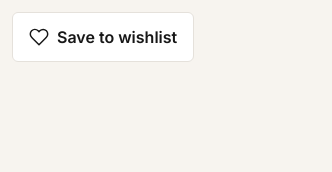
WishlistButton › pdp variant: shows the saved state in words beside Add to Bag
Click the button with aria-label "Save SAMPLE Round A to wishlist": (103, 37) x1=12 y1=12 x2=194 y2=62
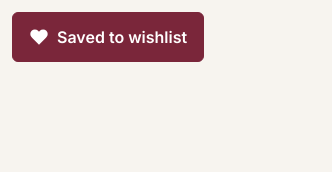
Expected: the button with aria-label "Remove SAMPLE Round A from wishlist" reads "Saved to wishlist", x1=12 y1=12 x2=204 y2=62
